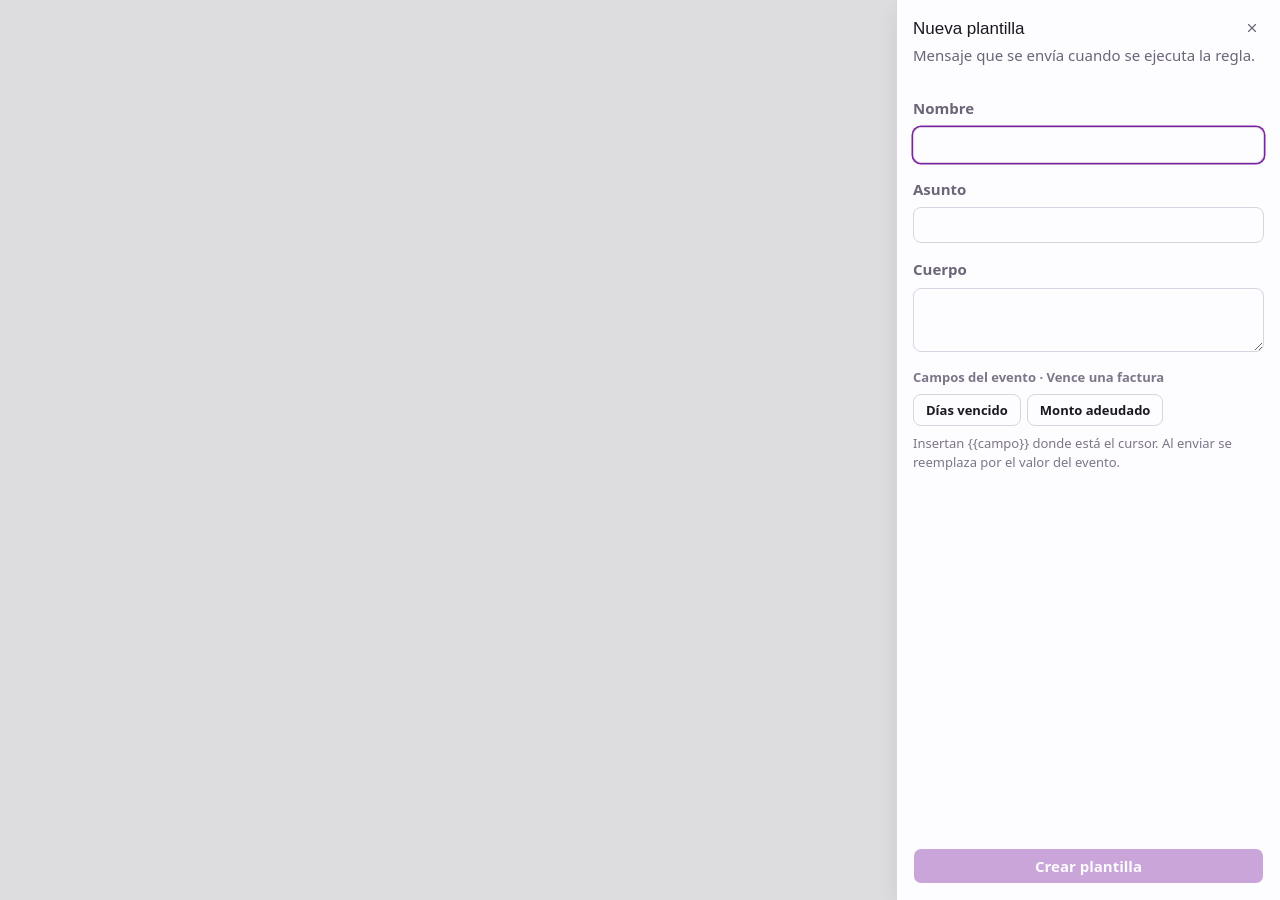
Test case: PlantillaSheet › inserta el chip en el último campo enfocado y en la posición del cursor
Step 1. Type "Hola" into the text box labelled "Cuerpo" → (1088,320), box [913,288,1264,352]
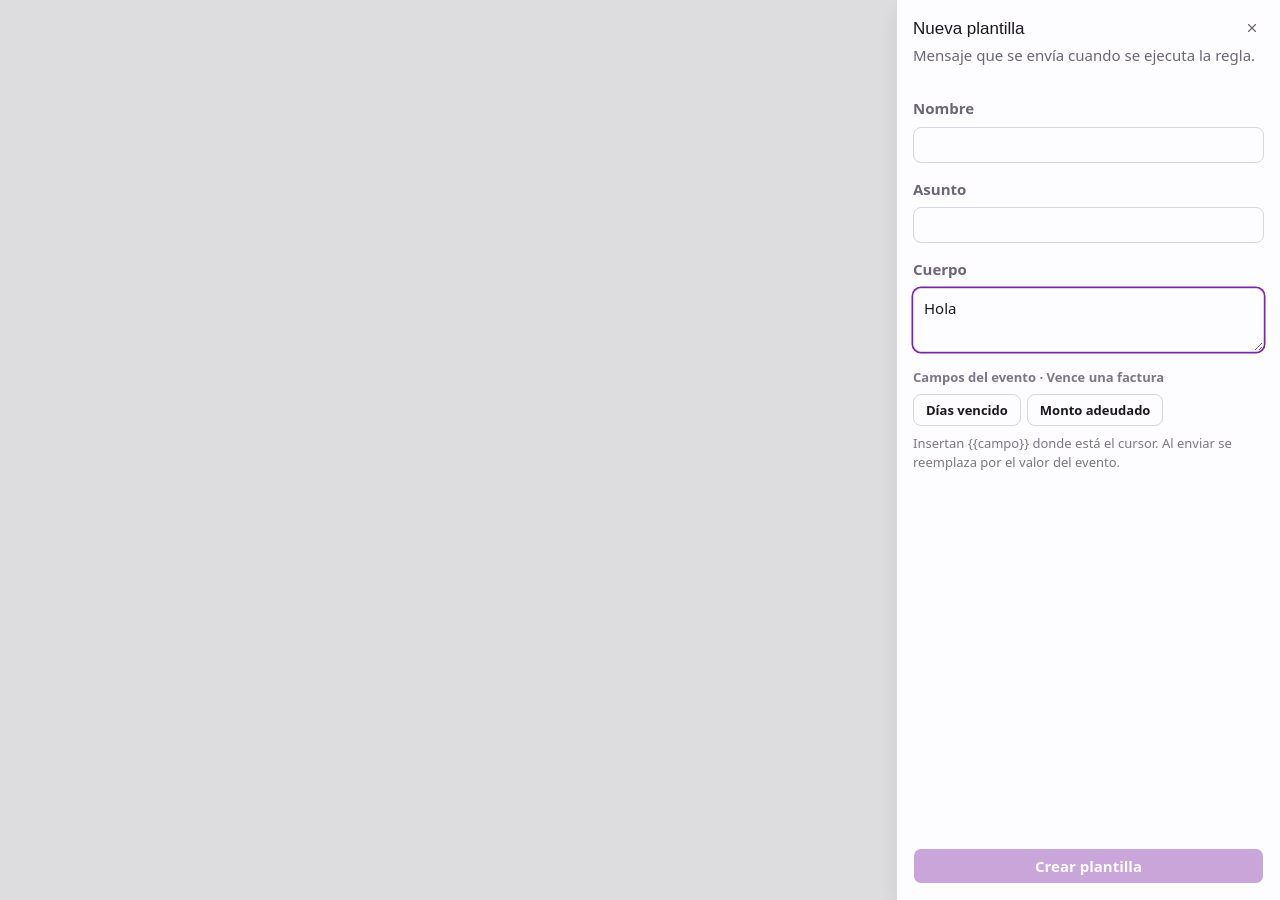
Step 2. Type "Deuda " into the field labelled "Asunto" → (1088,225), box [913,207,1264,243]
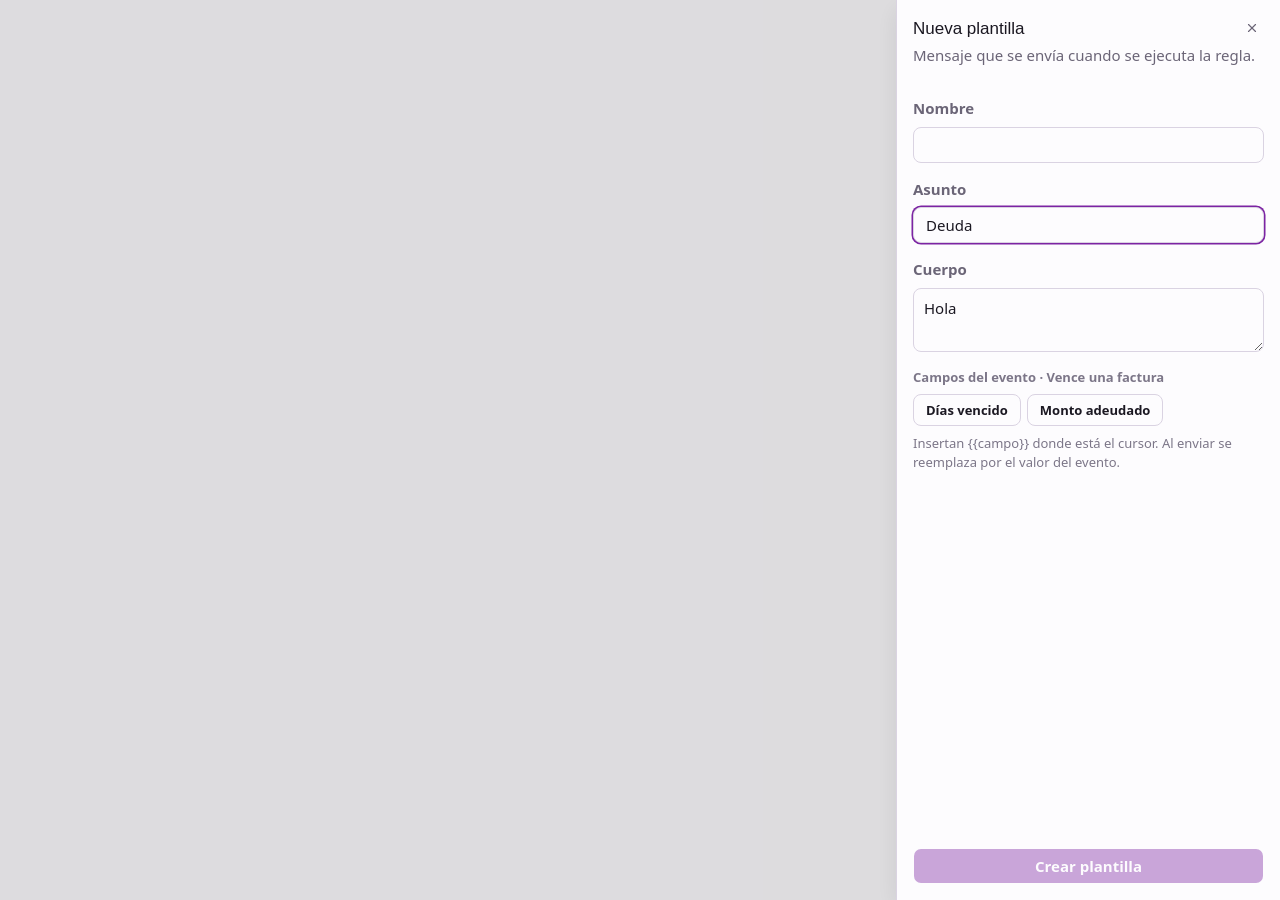
Step 3. Click the button "Días vencido" → (967,410), box [913,394,1021,426]
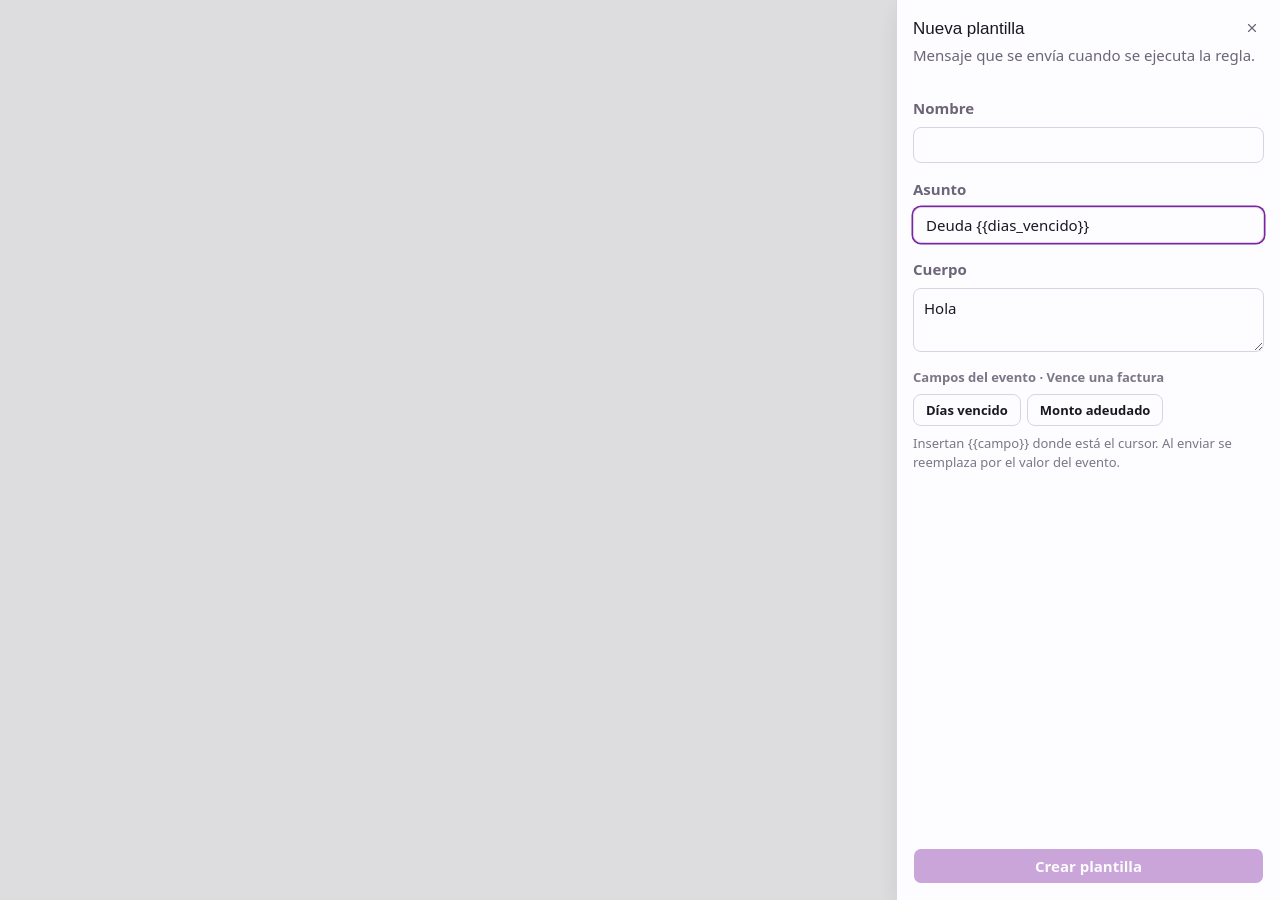
Expected: the field labelled "Asunto" holds "Deuda {{dias_vencido}}", [913,207,1264,243]
